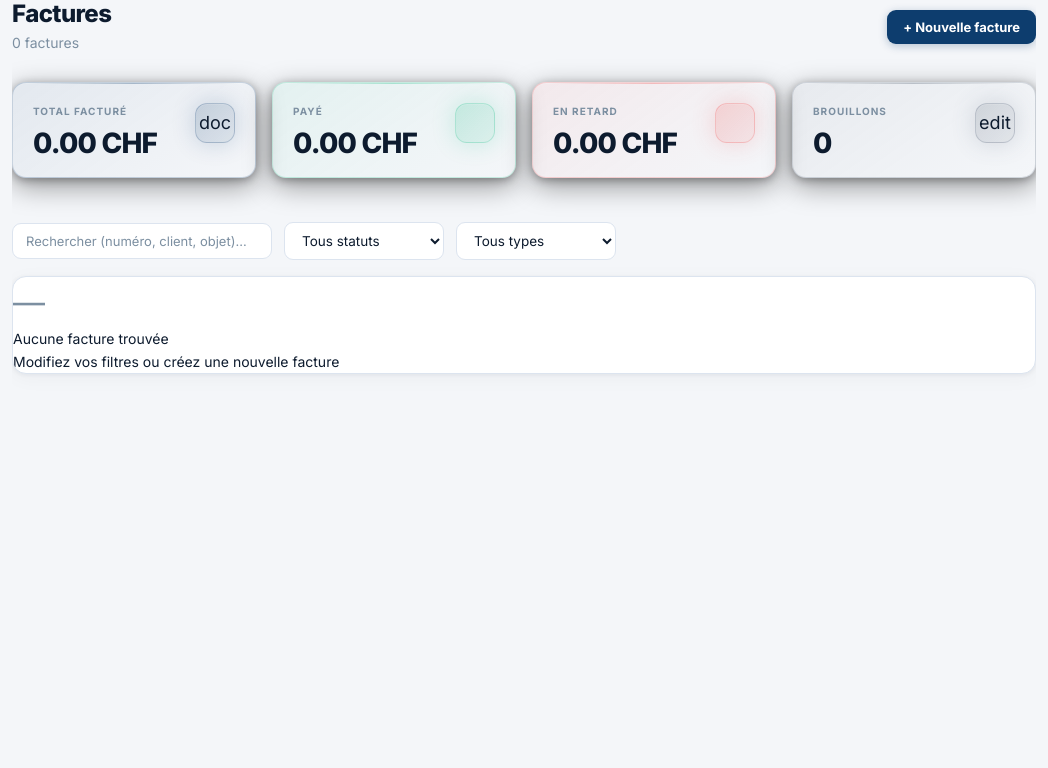
Factures — formulaire : ouverture › cliquer "+ Nouvelle facture" ouvre le formulaire
Click the button "+ Nouvelle facture" at (962, 27), box [887,10,1036,44]
(page scrolled)
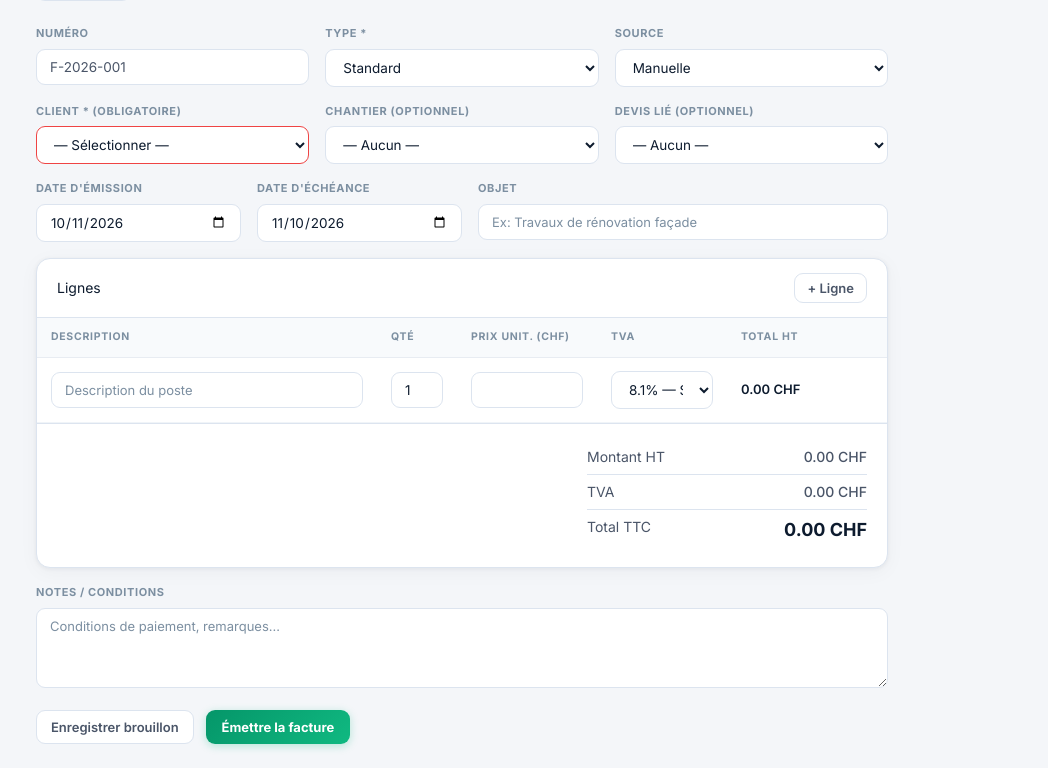
expect the button "Enregistrer brouillon" is shown: met, box [36,710,194,744]
